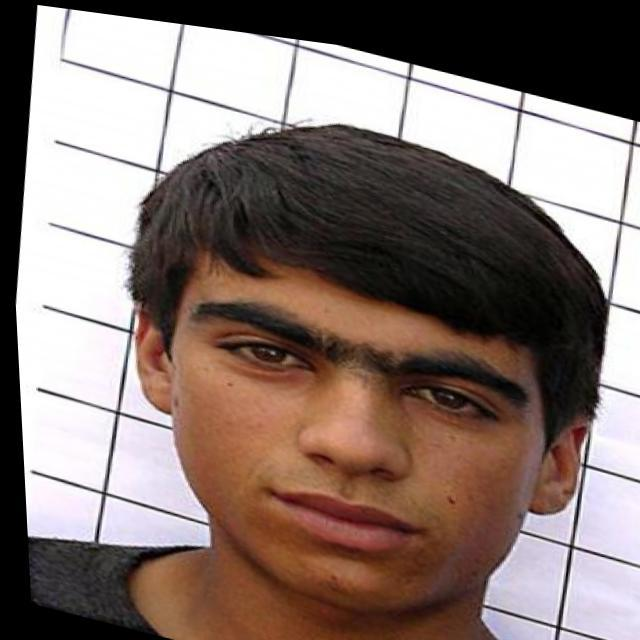Nonhelmet: (120, 118, 612, 616)
